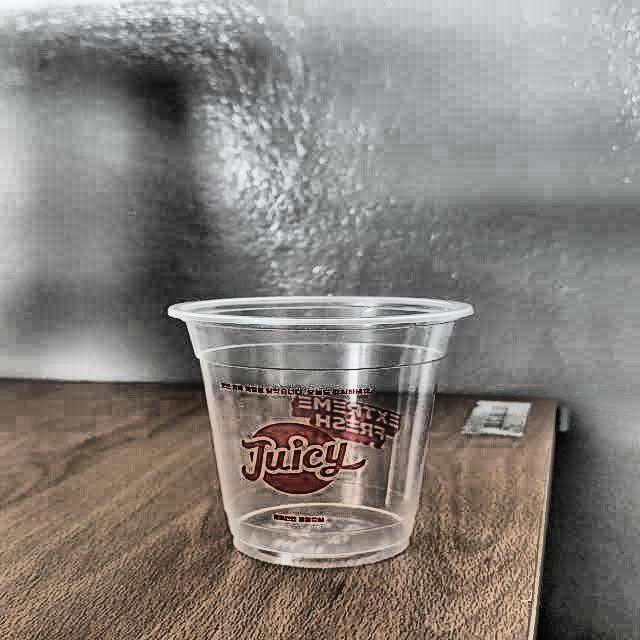plastic cup: (166, 294, 480, 568)
